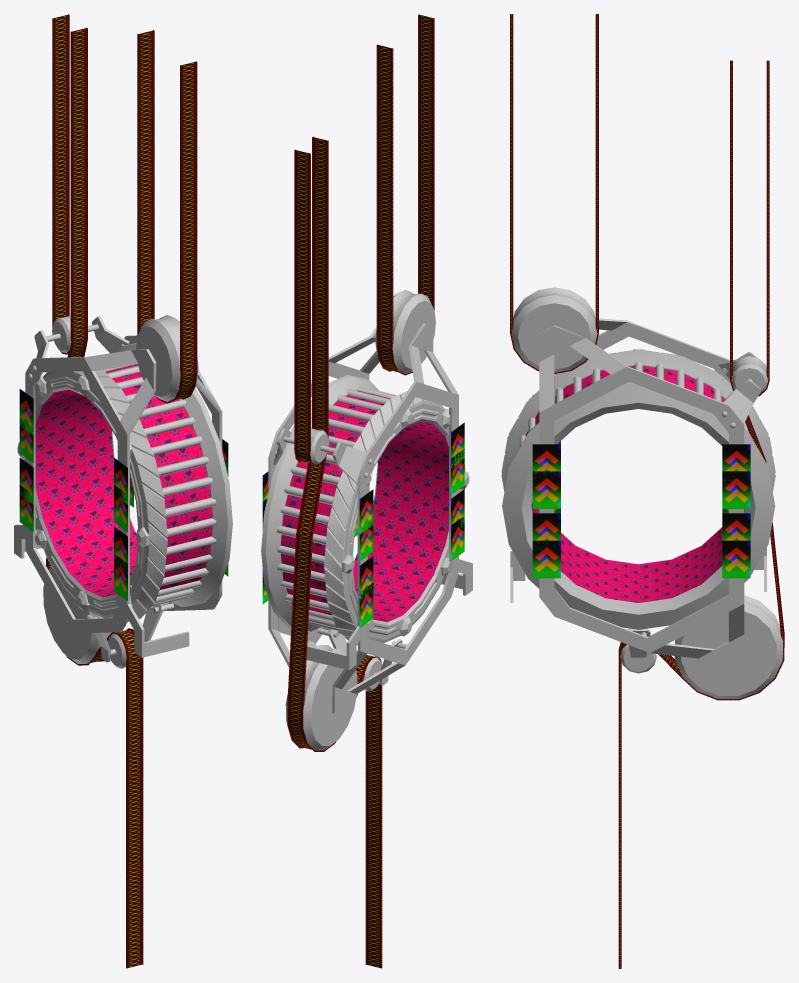
The model's file is Mesh_HamWheel.fbx.
3 renders of one model, left to right at view 1: azimuth 30°, elevation 25°; view 2: azimuth 150°, elevation 25°; view 3: azimuth 270°, elevation 25°, orthographic. The views are drawn at different scales.
Visible parts, largest first — view 1: Belts, HamWheel_Edge, walkingArea, Frame, Belts_half, HoloMarker, Gear_Mid, Frame_Half, Gear_Big, Gear_Small-1; view 2: Belts, HamWheel_Edge, walkingArea, Frame, Belts_half, HoloMarker, Gear_Big, Gear_Mid, Frame_Half, Gear_Small-1; view 3: HamWheel_Edge, Frame, HoloMarker, walkingArea, Belts, Gear_Big, Gear_Mid, Belts_half, Gear_Small-1, Frame_Half.
Part boxes in pixels (box(x1,y1,x2,y2)): Belts: box(46, 27, 197, 968); HamWheel_Edge: box(17, 343, 232, 621); walkingArea: box(35, 364, 212, 597); Frame: box(25, 316, 222, 662); Belts_half: box(52, 14, 87, 354); HoloMarker: box(19, 389, 228, 600); Gear_Mid: box(136, 315, 198, 401); Frame_Half: box(14, 331, 189, 657); Gear_Big: box(43, 566, 116, 664); Gear_Small-1: box(52, 315, 71, 353); Belts: box(287, 14, 434, 968); HamWheel_Edge: box(261, 375, 469, 645); walkingArea: box(280, 390, 448, 622); Frame: box(268, 323, 458, 715); Belts_half: box(294, 149, 323, 465); HoloMarker: box(262, 422, 464, 627); Gear_Big: box(285, 645, 357, 750); Gear_Mid: box(375, 290, 435, 373); Frame_Half: box(306, 329, 472, 669); Gear_Small-1: box(294, 428, 328, 464); HamWheel_Edge: box(501, 349, 775, 629); Frame: box(539, 318, 760, 669); HoloMarker: box(532, 395, 750, 578); walkingArea: box(525, 366, 744, 602); Belts: box(510, 14, 784, 968); Gear_Big: box(674, 595, 782, 698); Gear_Mid: box(511, 287, 597, 372); Belts_half: box(730, 60, 769, 396); Gear_Small-1: box(731, 356, 767, 394); Frame_Half: box(510, 320, 766, 602).
Bounding box in the file's own units: 150 × 1345 × 364.
